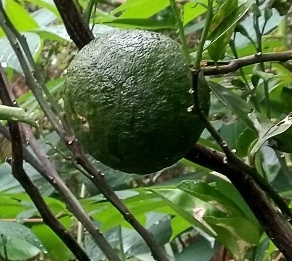Cam: (61, 27, 212, 177)
